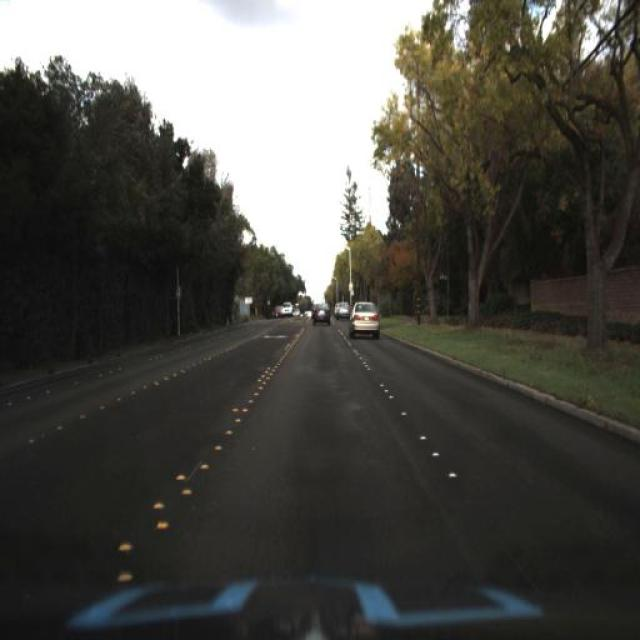car: (347, 294, 381, 340), (332, 294, 353, 324), (310, 299, 330, 330), (334, 300, 350, 326)
